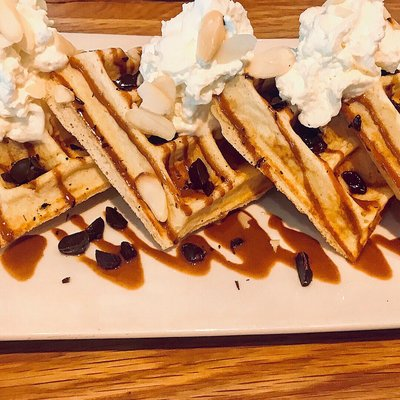soup: (208, 13, 399, 264)
